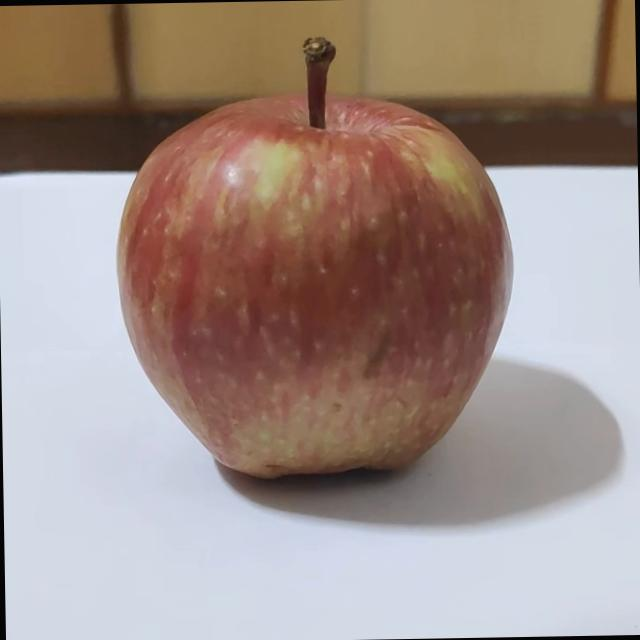apple: (113, 27, 519, 493)
